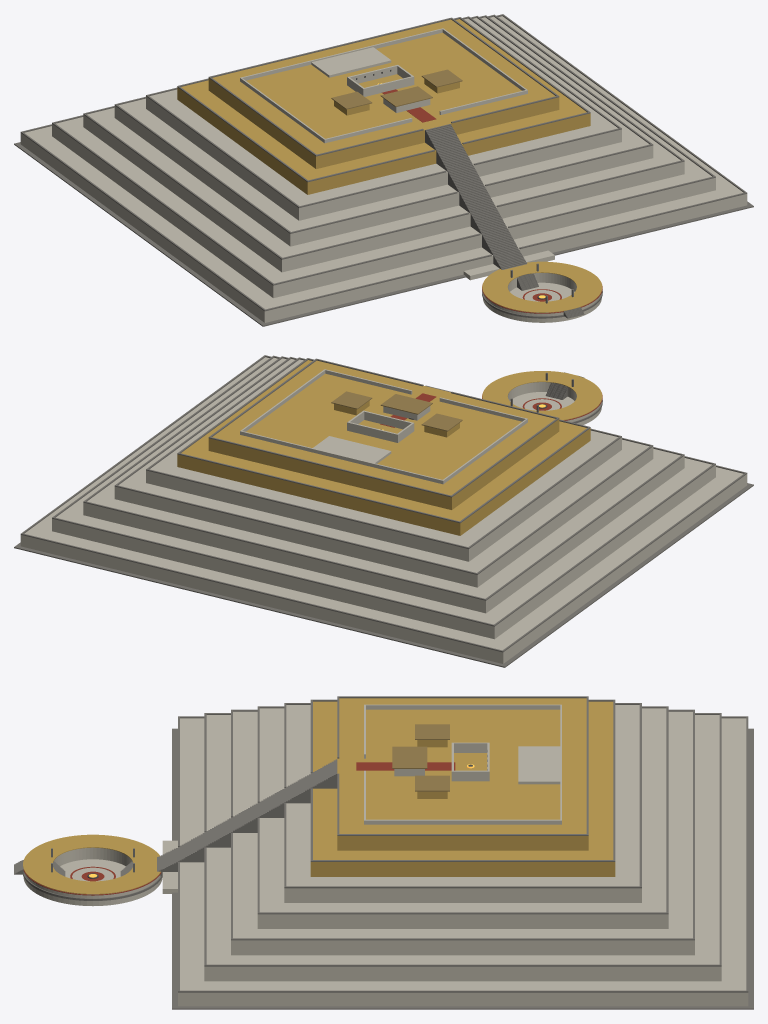
The model's file is caral_pyramid_mayor_lod0.glb.
The picture shows the model from 3 angles, top to bottom: view 1: azimuth 30°, elevation 25°; view 2: azimuth 150°, elevation 25°; view 3: azimuth 270°, elevation 25°; orthographic projection. The views are drawn at different scales.
Visible parts, largest first — view 1: GEO-Caral_PyramidMayor_LOD0_Plaster_White, GEO-Caral_PyramidMayor_LOD0_Plaster_Yellow, GEO-Caral_PyramidMayor_LOD0_Stone_Granodiorite, GEO-Caral_PyramidMayor_LOD0_Thatch_Reed, GEO-Caral_PyramidMayor_LOD0_Plaster_Red; view 2: GEO-Caral_PyramidMayor_LOD0_Plaster_White, GEO-Caral_PyramidMayor_LOD0_Plaster_Yellow, GEO-Caral_PyramidMayor_LOD0_Stone_Granodiorite, GEO-Caral_PyramidMayor_LOD0_Thatch_Reed; view 3: GEO-Caral_PyramidMayor_LOD0_Plaster_White, GEO-Caral_PyramidMayor_LOD0_Plaster_Yellow, GEO-Caral_PyramidMayor_LOD0_Stone_Granodiorite, GEO-Caral_PyramidMayor_LOD0_Thatch_Reed, GEO-Caral_PyramidMayor_LOD0_Plaster_Red.
Boxes of the visible parts, bbox=[...] form: GEO-Caral_PyramidMayor_LOD0_Plaster_White: bbox=[20, 16, 747, 322]; GEO-Caral_PyramidMayor_LOD0_Plaster_Yellow: bbox=[177, 19, 602, 312]; GEO-Caral_PyramidMayor_LOD0_Stone_Granodiorite: bbox=[14, 14, 753, 326]; GEO-Caral_PyramidMayor_LOD0_Thatch_Reed: bbox=[331, 69, 462, 109]; GEO-Caral_PyramidMayor_LOD0_Plaster_Red: bbox=[382, 89, 602, 313]; GEO-Caral_PyramidMayor_LOD0_Plaster_White: bbox=[20, 357, 747, 663]; GEO-Caral_PyramidMayor_LOD0_Plaster_Yellow: bbox=[177, 360, 602, 535]; GEO-Caral_PyramidMayor_LOD0_Stone_Granodiorite: bbox=[14, 355, 753, 667]; GEO-Caral_PyramidMayor_LOD0_Thatch_Reed: bbox=[331, 391, 462, 431]; GEO-Caral_PyramidMayor_LOD0_Plaster_White: bbox=[23, 704, 748, 1006]; GEO-Caral_PyramidMayor_LOD0_Plaster_Yellow: bbox=[23, 698, 615, 894]; GEO-Caral_PyramidMayor_LOD0_Stone_Granodiorite: bbox=[14, 696, 753, 1009]; GEO-Caral_PyramidMayor_LOD0_Thatch_Reed: bbox=[392, 724, 449, 791]; GEO-Caral_PyramidMayor_LOD0_Plaster_Red: bbox=[23, 762, 455, 895].
Bounding box in the file's own units: 13.9 × 2.77 × 15.54.
